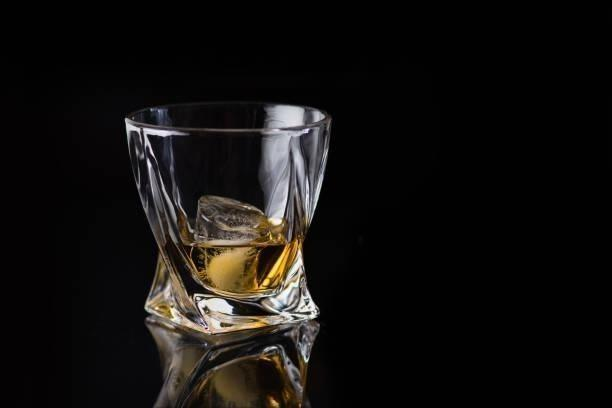glass-normal: (121, 96, 334, 337)
